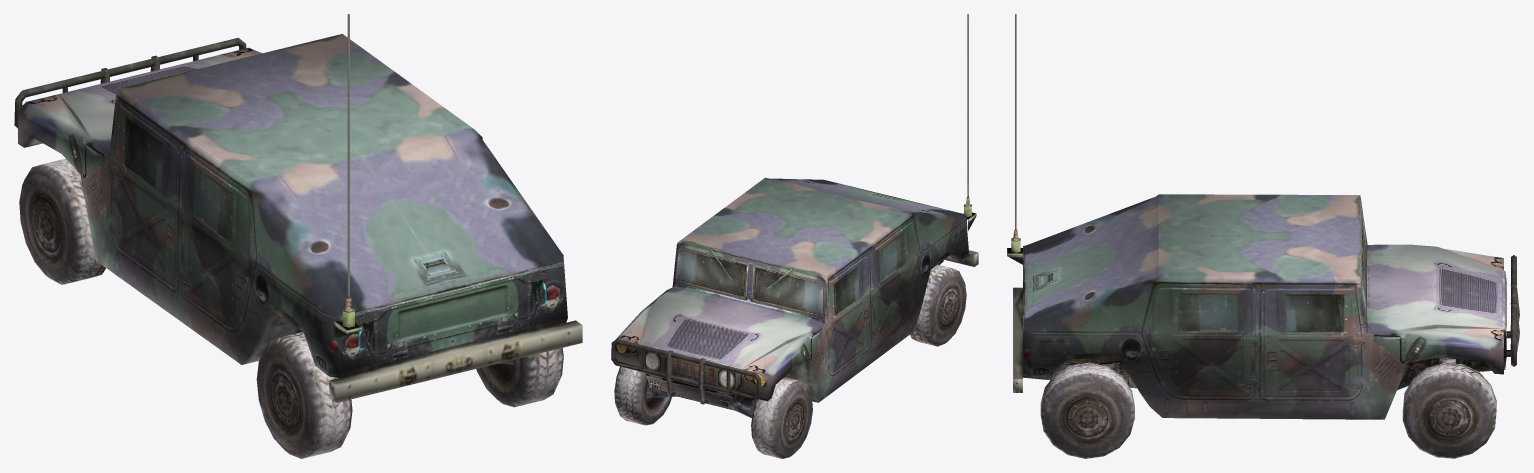
The model's file is v3d-humvee.glb.
3 views of the same model, side by side, from view 1: azimuth 30°, elevation 25°; view 2: azimuth 150°, elevation 25°; view 3: azimuth 270°, elevation 25° (orthographic). The views are drawn at different scales.
Visible parts, largest first — view 1: rumpf; view 2: rumpf; view 3: rumpf.
Boxes of the visible parts, left/top/right/bottom form: rumpf: left=14, top=14, right=582, bottom=458; rumpf: left=611, top=14, right=978, bottom=458; rumpf: left=1007, top=14, right=1519, bottom=458.
Bounding box in the file's own units: 1.99 × 3.56 × 4.6.
1 material, 1 textured.
